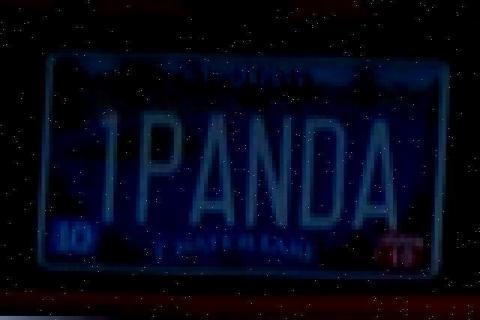LicensePlate: (20, 27, 448, 303)
